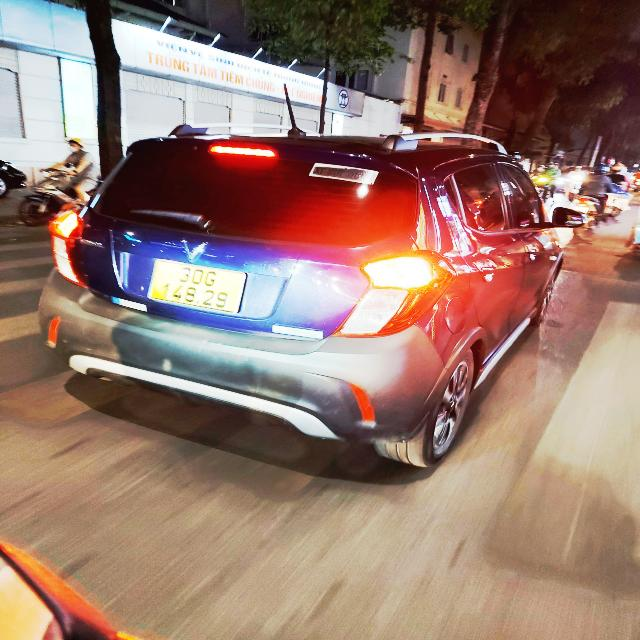license_plate: (145, 259, 247, 317)
